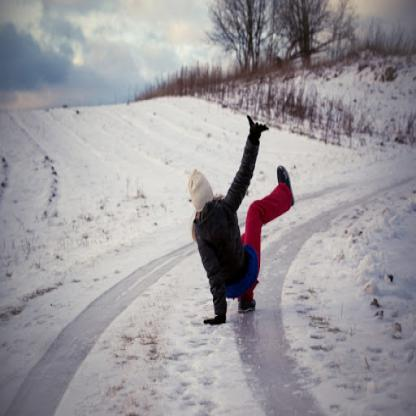Fall_Down: (190, 113, 296, 327)
